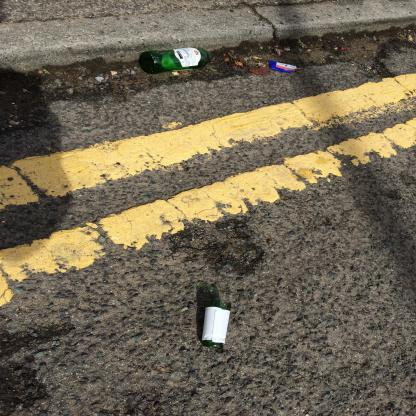trash: (136, 44, 216, 76), (198, 300, 234, 352), (266, 59, 300, 75)
